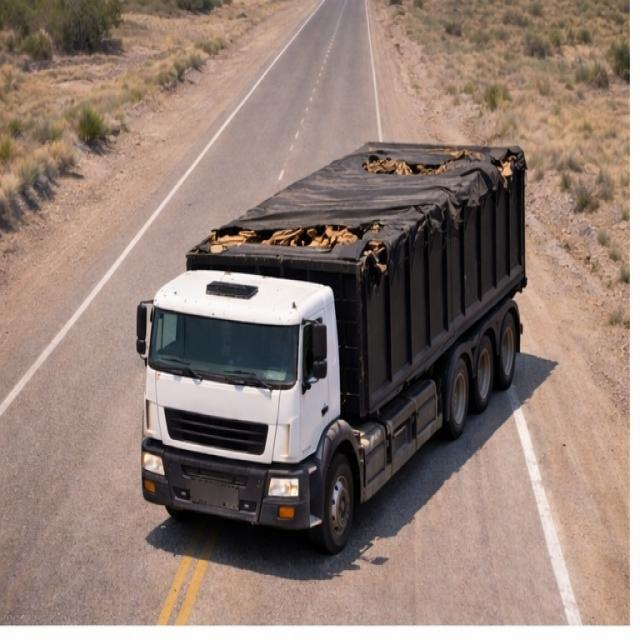Box: (192, 136, 538, 270)
Truck: (115, 99, 548, 549)
